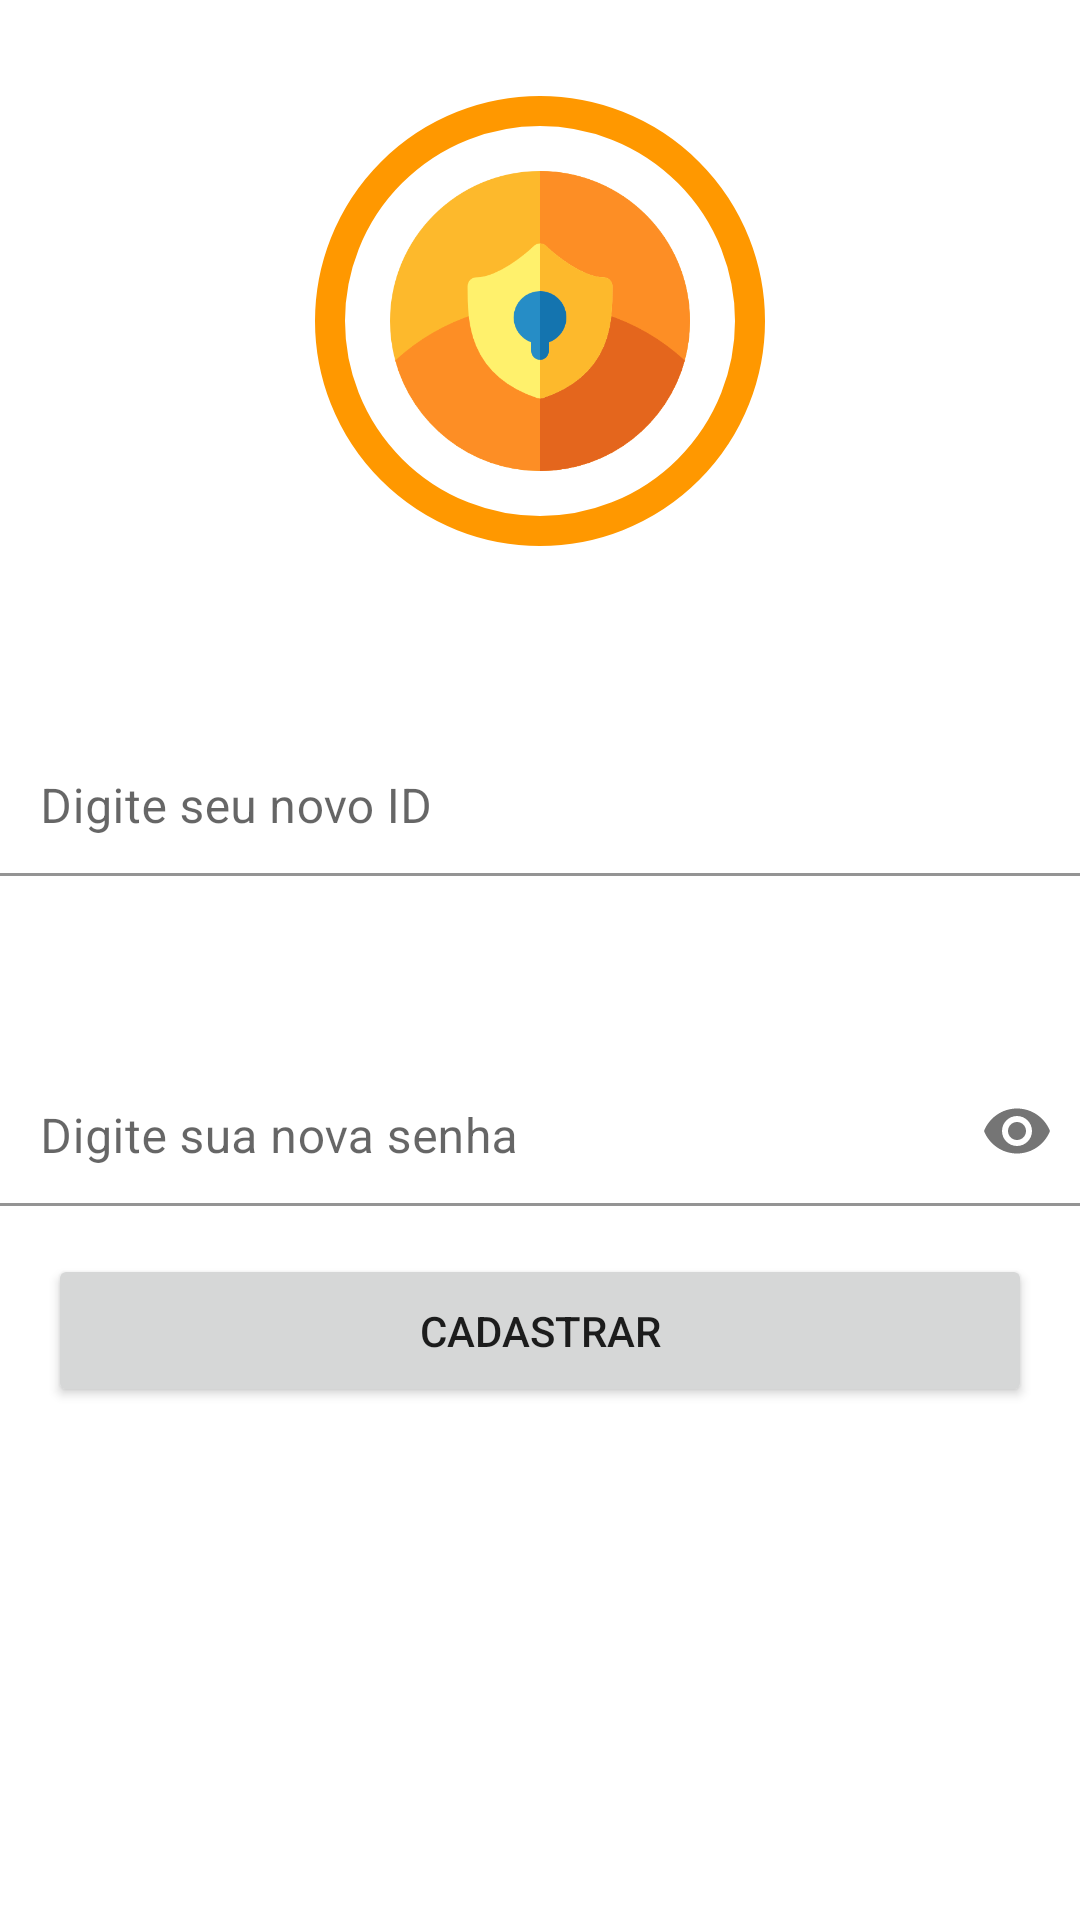

Where to tap for icons on this 1080px×1920px app screen, as (x=x, y=y):
login: (x=540, y=321)
